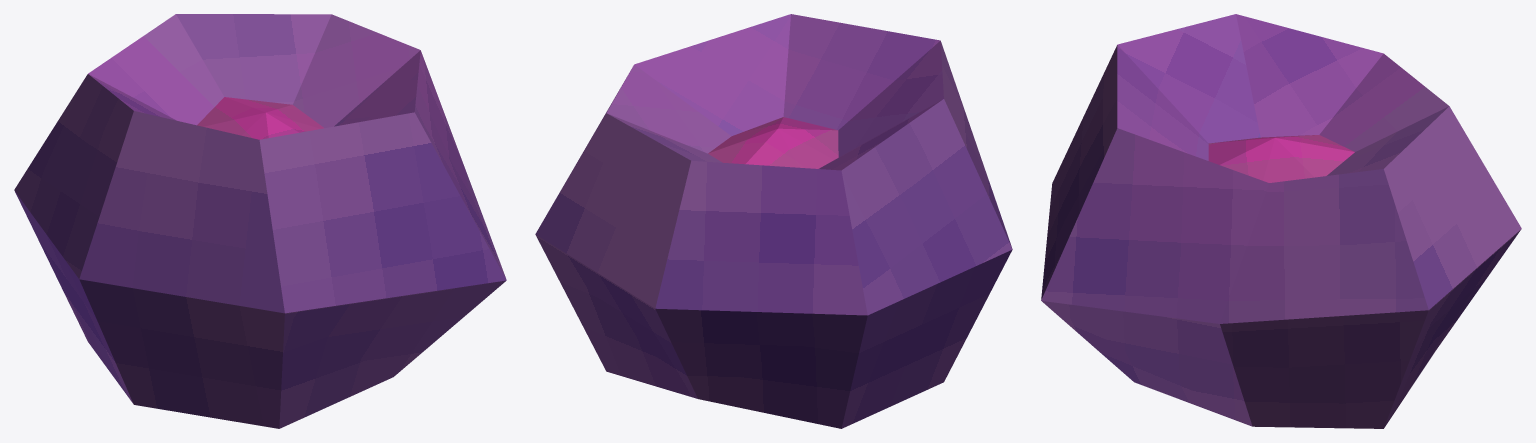
File: spark_ore.gltf
The picture shows the model from 3 angles, left to right: view 1: azimuth 30°, elevation 25°; view 2: azimuth 150°, elevation 25°; view 3: azimuth 270°, elevation 25°; orthographic projection. The views are drawn at different scales.
Visible parts, largest first — view 1: sphere; view 2: sphere; view 3: sphere.
Part boxes in pixels (x1,y1,x2,y2): sphere: [14, 14, 506, 428]; sphere: [535, 14, 1012, 428]; sphere: [1041, 14, 1521, 428].
Bounding box in the file's own units: 0.4973 × 0.3536 × 0.54.
1 material, 1 textured.
